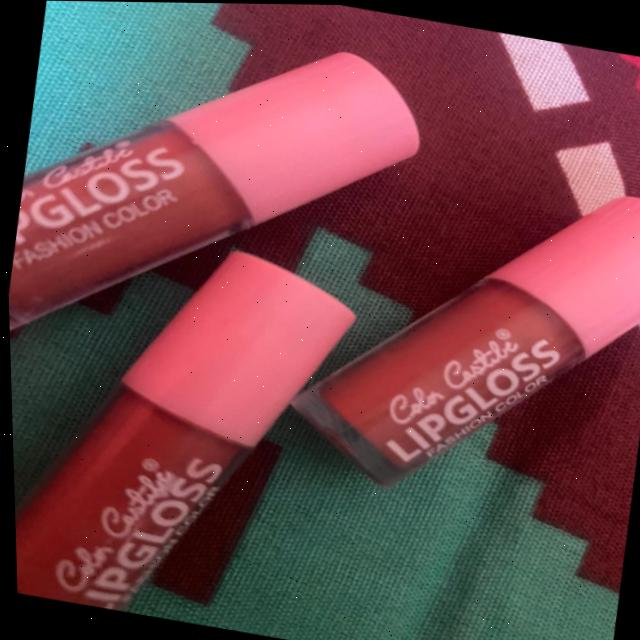lip gloss: (0, 0, 453, 395), (5, 205, 376, 640), (280, 133, 640, 532)
